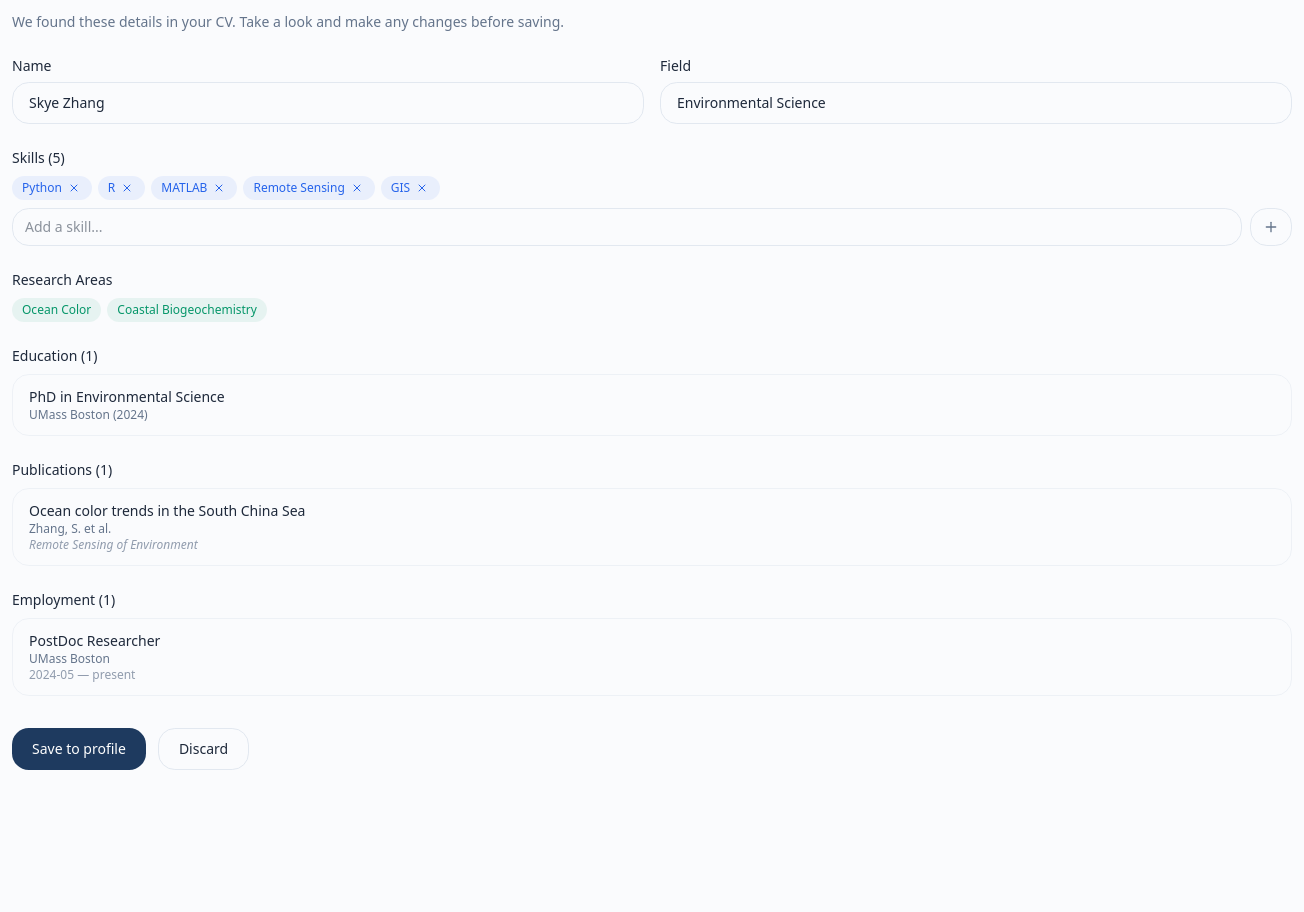
CvReviewForm › allows adding a new skill
The width and height of the screenshot is (1304, 912).
Step 1. Type "NetCDF" into the field with placeholder "Add a skill..." → (627, 227), box [12,208,1242,246]
Then press Enter
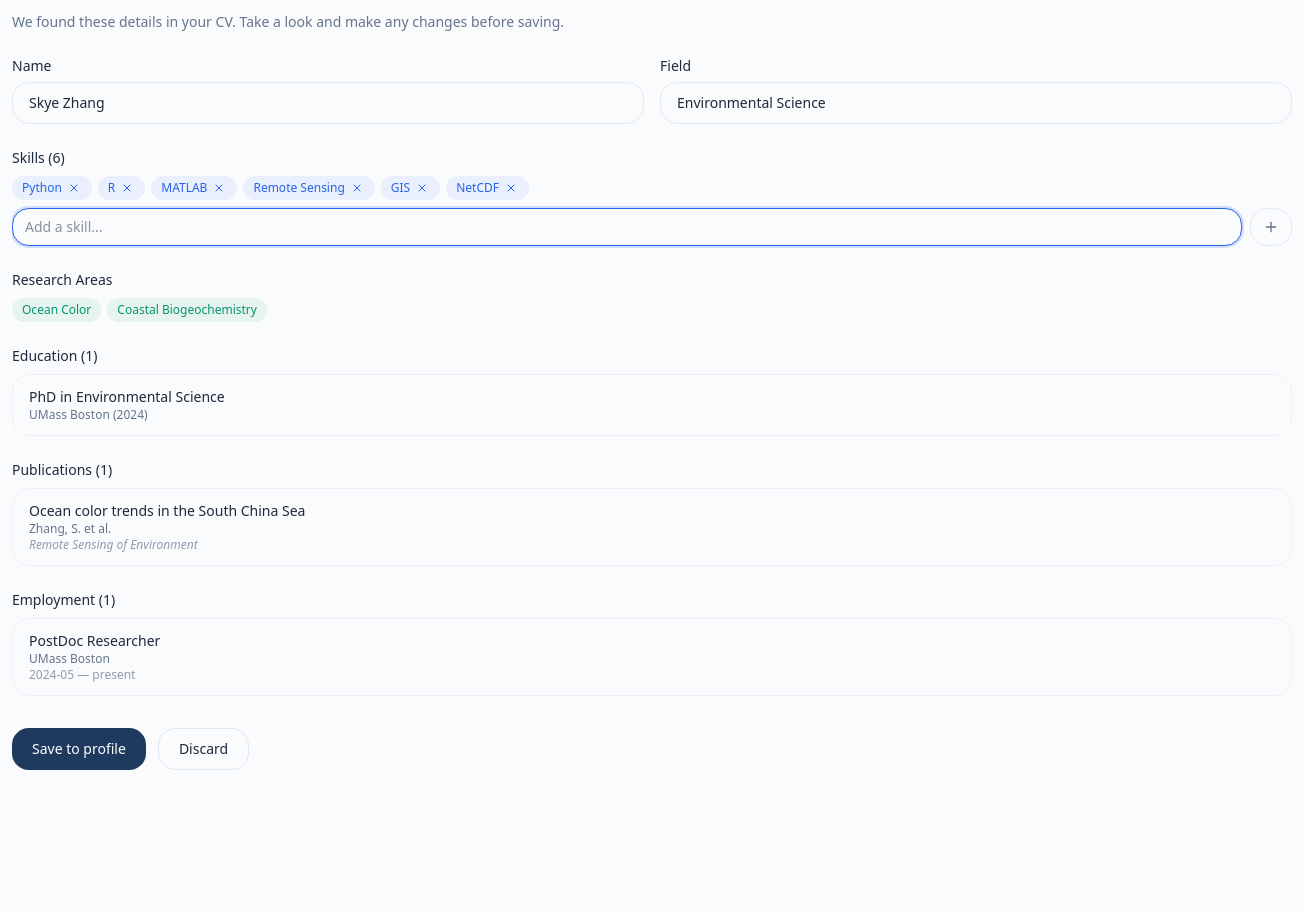
Now the text "NetCDF" is shown, box [446,176,529,200]
